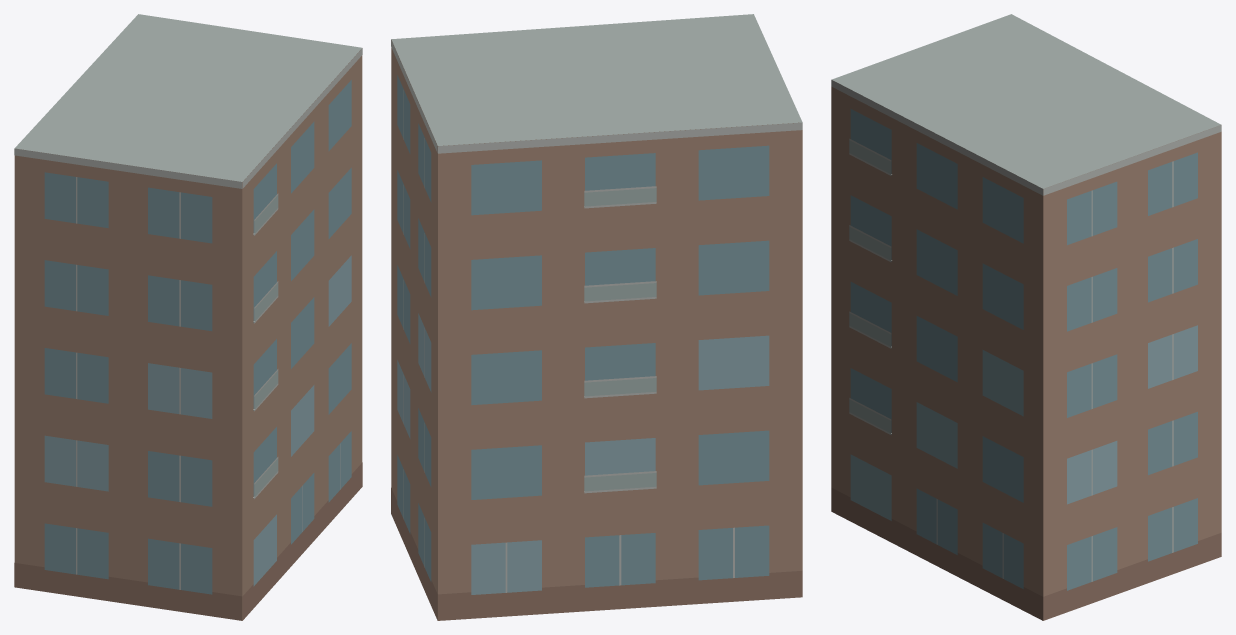
File: survey-upis-32579873.glb
3 views of the same model, side by side, from view 1: azimuth 30°, elevation 25°; view 2: azimuth 150°, elevation 25°; view 3: azimuth 270°, elevation 25° (orthographic). The views are drawn at different scales.
Visible parts, largest first — view 1: survey-upis-32579873.tmp; view 2: survey-upis-32579873.tmp; view 3: survey-upis-32579873.tmp.
Part boxes in pixels (x1,y1,x2,y2): survey-upis-32579873.tmp: (14, 14, 362, 620); survey-upis-32579873.tmp: (391, 14, 802, 620); survey-upis-32579873.tmp: (831, 14, 1221, 620).
Size of the model in its own units: 13.25 by 15.25 by 12.49.
